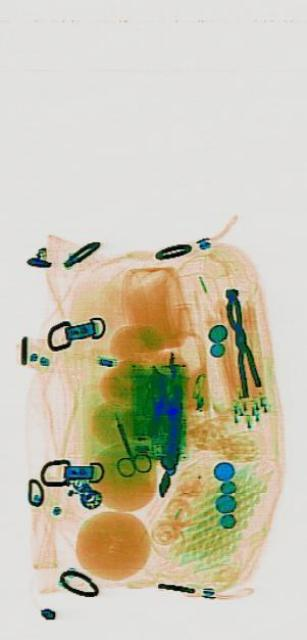Scissors: (105, 405, 151, 497)
